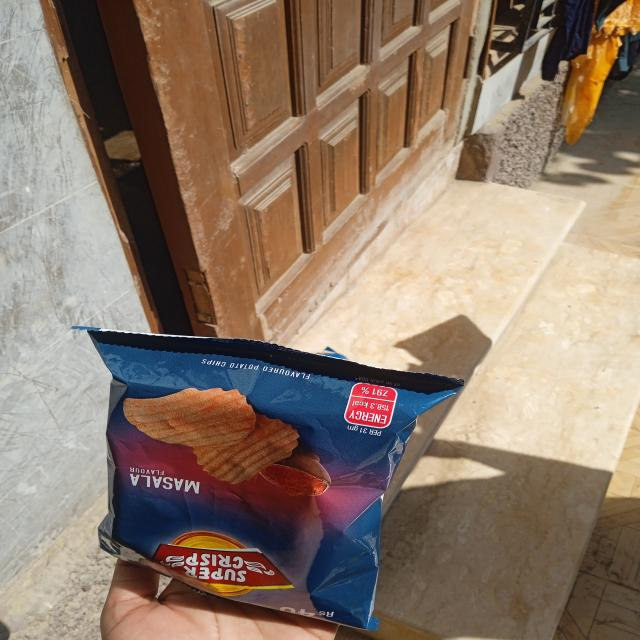Plastic: (70, 324, 424, 630)
